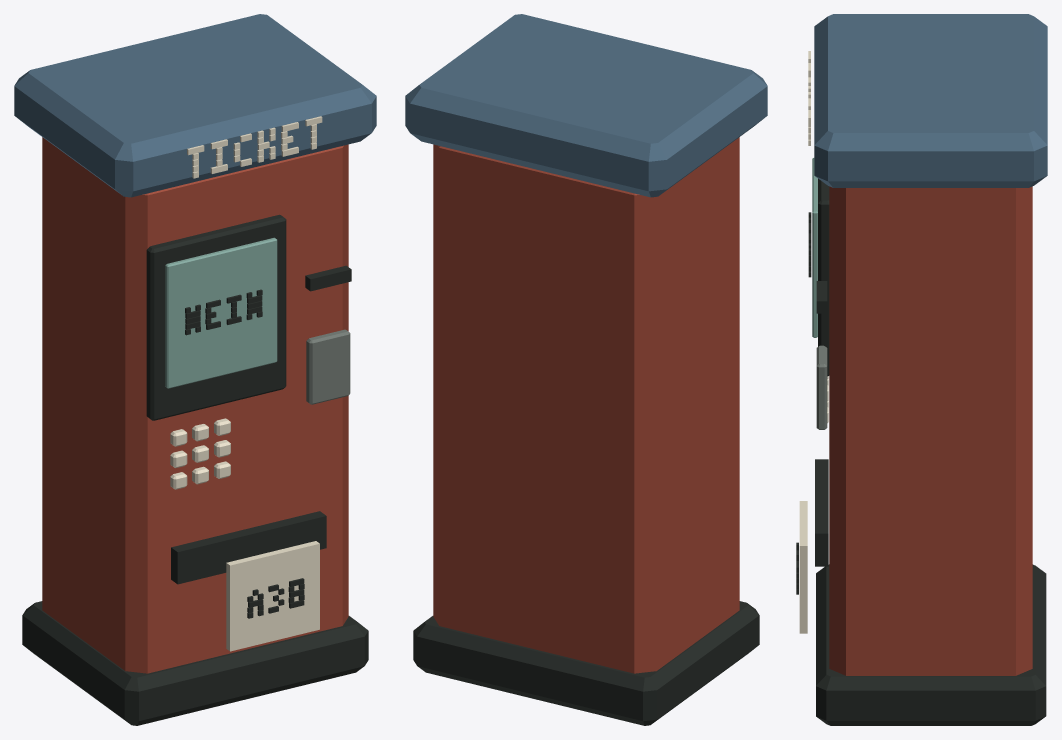
Rendered from ticket-machine.glb.
3 views of the same model, side by side, from view 1: azimuth 30°, elevation 25°; view 2: azimuth 150°, elevation 25°; view 3: azimuth 270°, elevation 25° (orthographic). The views are drawn at different scales.
Parts seen in each view (by area): view 1: ticket-machine; view 2: ticket-machine; view 3: ticket-machine.
Part boxes in pixels (box(x1,y1,x2,y2)): ticket-machine: box(14, 14, 376, 725); ticket-machine: box(405, 14, 767, 725); ticket-machine: box(796, 14, 1047, 725).
Bounding box in the file's own units: 1.02 × 2.17 × 0.8295.
